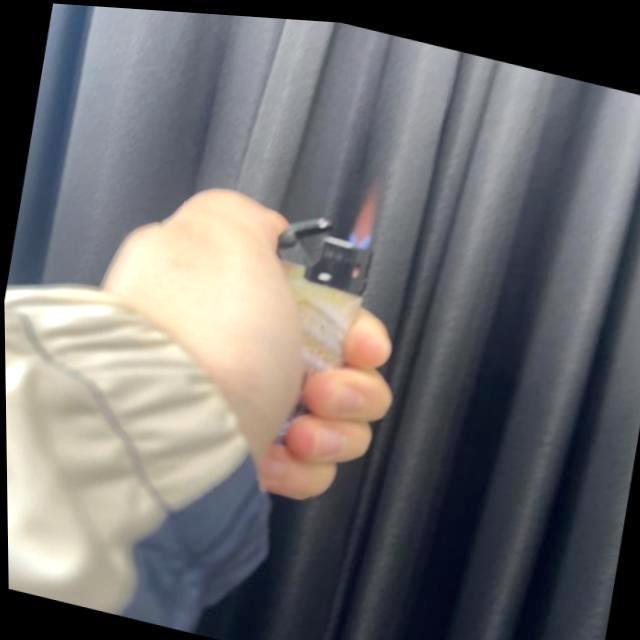fire: (343, 176, 381, 248)
